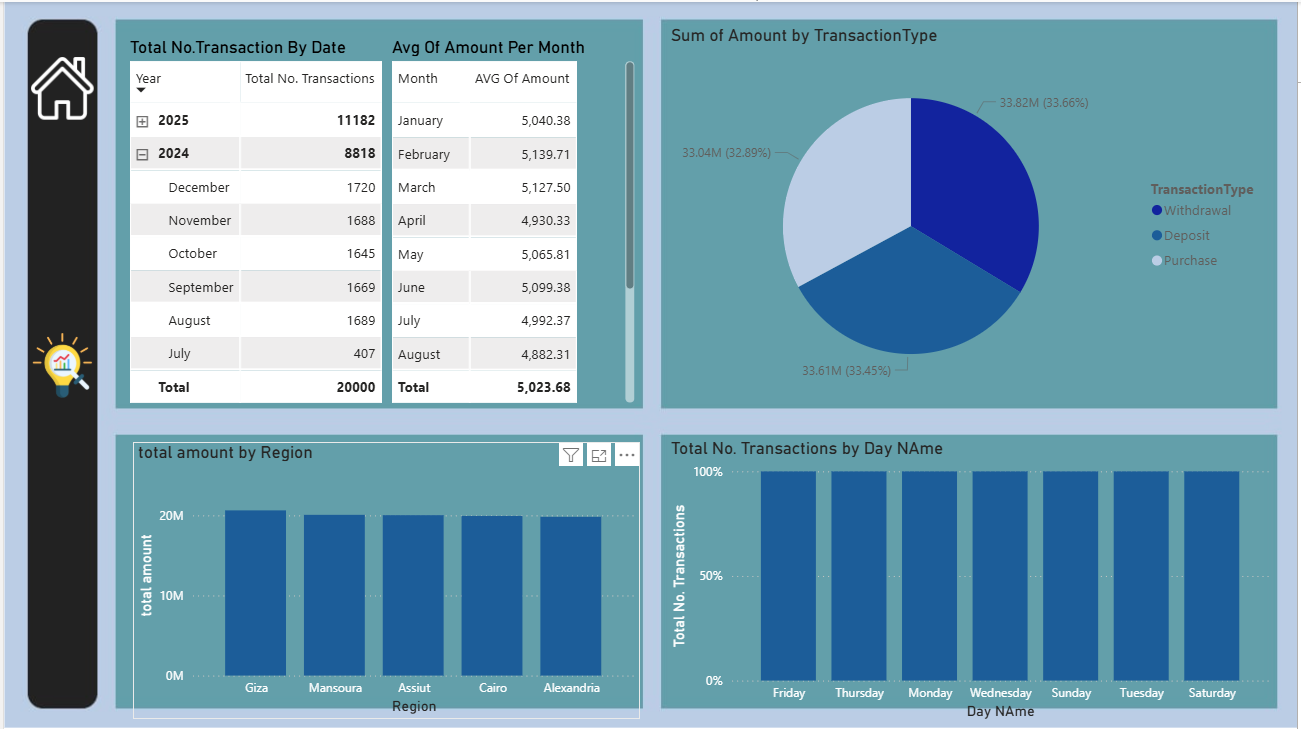

The dashboard page shown, as its layout file describes it:
{"tool":"powerbi","page":{"name":"insights","canvas":[1280,720],"ordinal":1},"visuals":[{"type":"pivotTable","title":"Total No.Transaction By Date","fields":{"Values":["My Measures.Total No. Transactions"],"Rows":["date table.Date.Variation.Date Hierarchy.Year","date table.Date.Variation.Date Hierarchy.Month"]},"box":[119.8,34.6,275.2,367.3],"z":0},{"type":"hundredPercentStackedColumnChart","fields":{"Y":["My Measures.Total No. Transactions"],"Category":["date table.Day NAme"]},"box":[655.3,431.6,601.9,283.1],"z":1001},{"type":"columnChart","fields":{"Category":["DIM Region.Region"],"Y":["My Measures.total amount"]},"box":[127.7,435.6,501.9,274.2],"z":1002},{"type":"pivotTable","title":"Avg Of Amount Per Month","fields":{"Rows":["date table.Date.Variation.Date Hierarchy.Month"],"Values":["My Measures.AVG Of Amount"]},"box":[379.1,34.6,250.5,367.3],"z":1004},{"type":"pieChart","fields":{"Category":["DIM Transaction type.TransactionType"],"Y":["Sum(FACT Financial_Transactions.Amount)"]},"box":[655.3,22.8,601.9,379.1],"z":1005},{"type":"image","box":[20.8,49.5,74.2,72.3],"z":1006},{"type":"image","box":[20.8,322.7,74.2,74.2],"z":1007}]}

Visuals, with their boxes in screenshot pixels (x1, y1, x2, y2), scaled from the page's 1280x720 canvas onto the 1301x729 screenshot:
"Total No.Transaction By Date" pivotTable: <box>122,35,401,407</box>
hundredPercentStackedColumnChart - My Measures.Total No. Transactions x date table.Day NAme: <box>666,437,1278,724</box>
columnChart - DIM Region.Region x My Measures.total amount: <box>130,441,640,719</box>
"Avg Of Amount Per Month" pivotTable: <box>385,35,640,407</box>
pieChart - DIM Transaction type.TransactionType x Sum(FACT Financial_Transactions.Amount): <box>666,23,1278,407</box>
image: <box>21,50,97,123</box>
image: <box>21,327,97,402</box>
